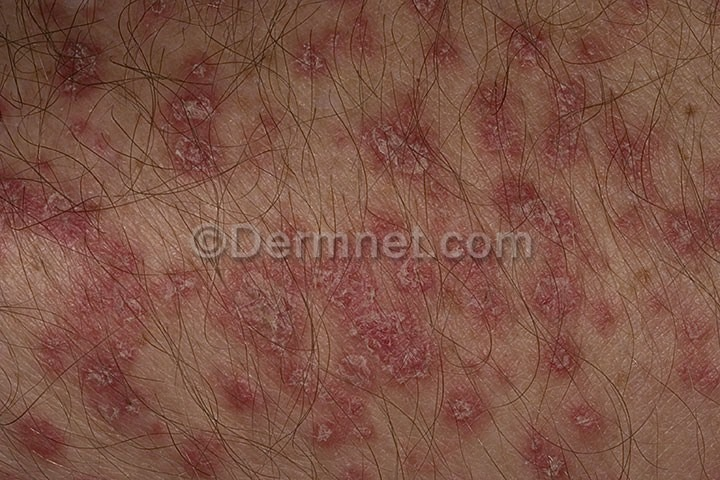Psoriasis: (21, 17, 703, 466)
